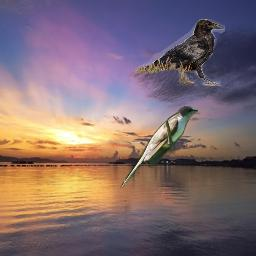Crow: (135, 19, 225, 86)
Cuckoo: (120, 106, 198, 189)
